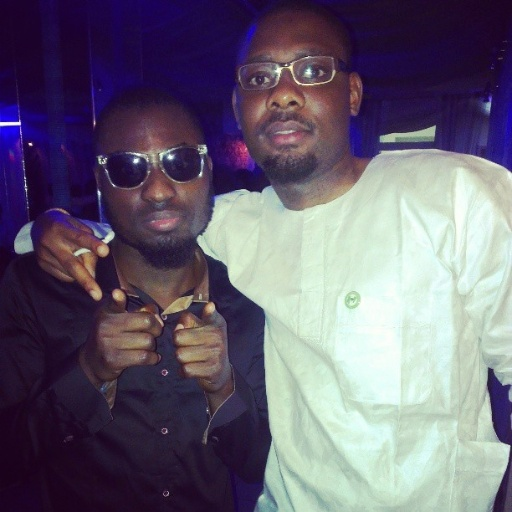hand: (20, 206, 113, 307), (81, 286, 164, 384), (168, 298, 231, 397)
